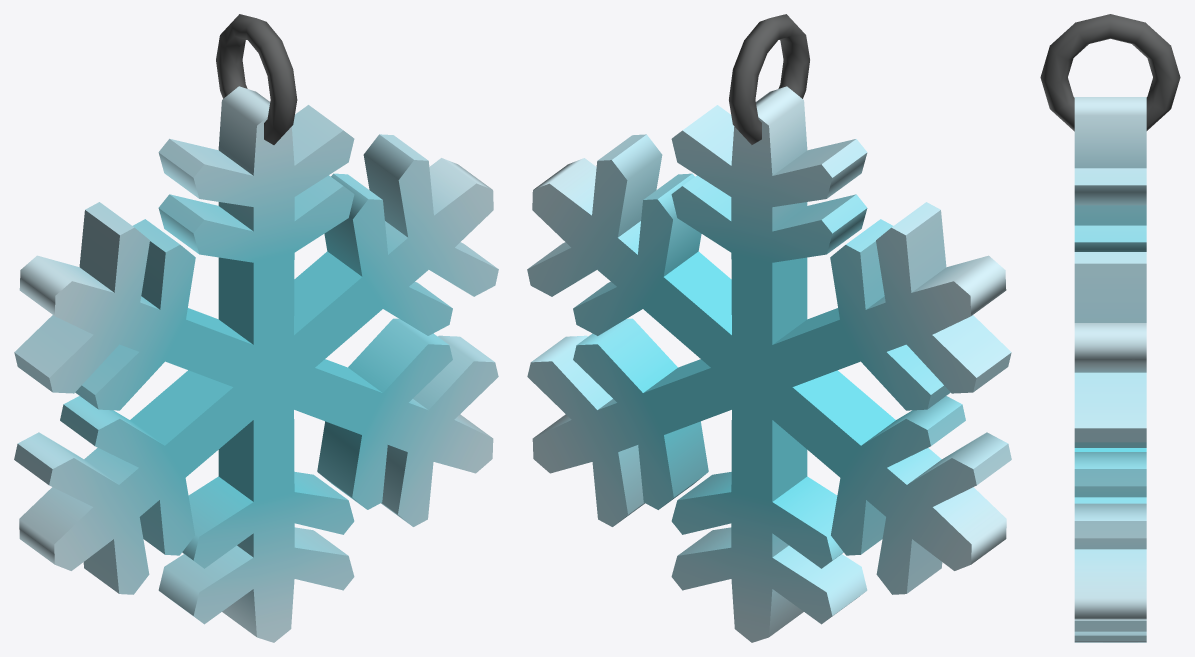
The model's file is Charm_24.fbx.
3 renders of one model, left to right at view 1: azimuth 30°, elevation 25°; view 2: azimuth 150°, elevation 25°; view 3: azimuth 270°, elevation 25°, orthographic. The views are drawn at different scales.
Parts seen in each view (by area): view 1: Charm_24; view 2: Charm_24; view 3: Charm_24.
Part boxes in pixels (x1,y1,x2,y2): Charm_24: (14,14,498,642); Charm_24: (527,14,1011,642); Charm_24: (1040,14,1180,642).
Bounding box in the file's own units: 4.8 × 6.24 × 1.26.
